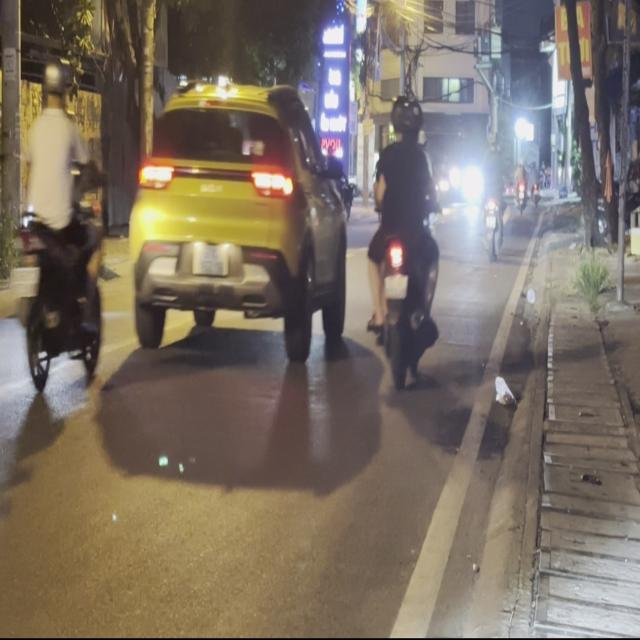helmet: (40, 59, 69, 110), (389, 94, 421, 140)
licenseplate: (9, 56, 109, 410), (362, 89, 441, 387)
nohelmet: (10, 266, 39, 296), (384, 273, 406, 296)
